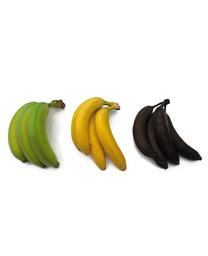banana: (70, 96, 126, 170), (8, 97, 61, 168)
